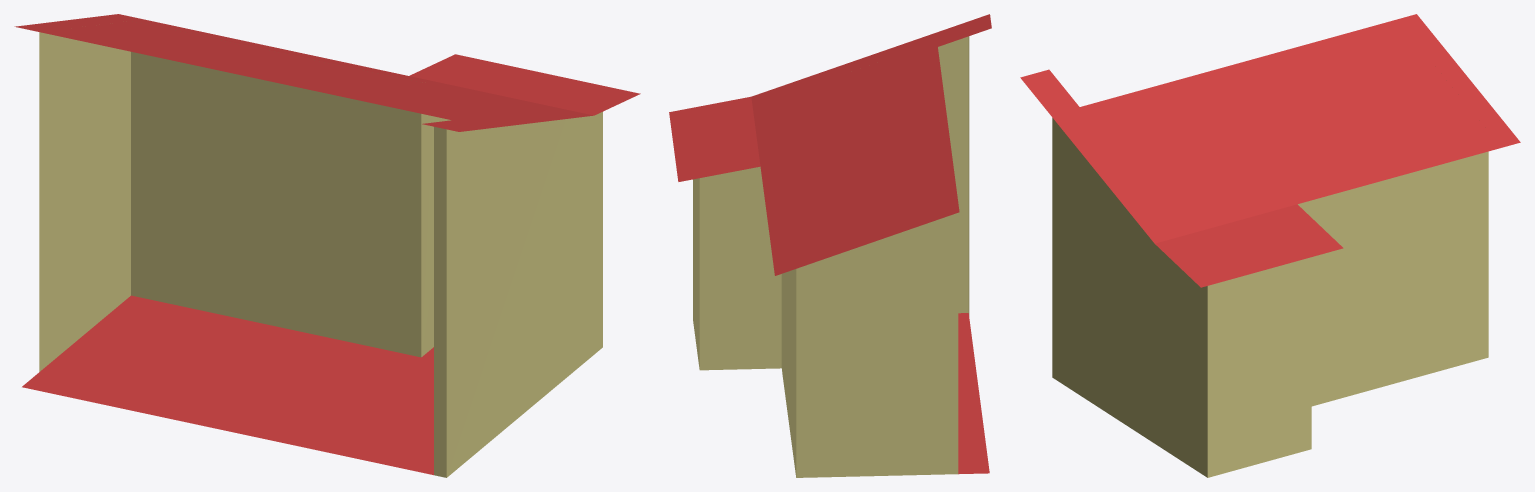
The picture shows the model from 3 angles, left to right: view 1: azimuth 30°, elevation 25°; view 2: azimuth 150°, elevation 25°; view 3: azimuth 270°, elevation 25°; orthographic projection. The views are drawn at different scales.
Size of the model in its own units: 10.41 by 10.77 by 7.05.
